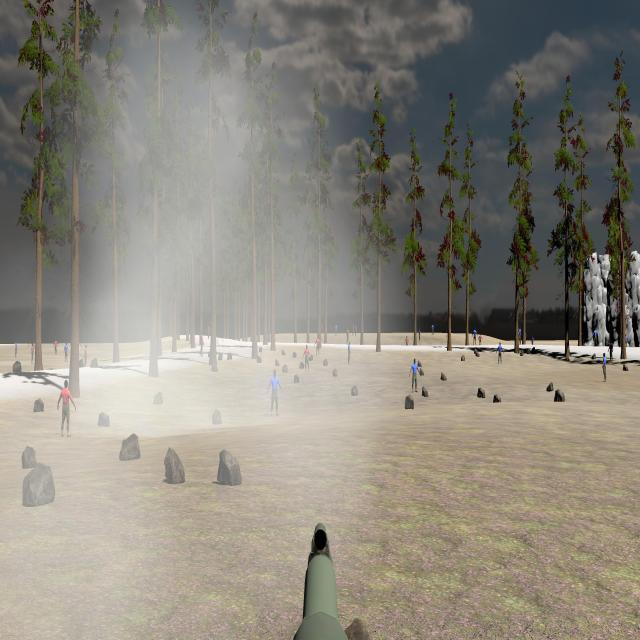Human: (58, 379, 76, 437), (409, 359, 420, 392)
